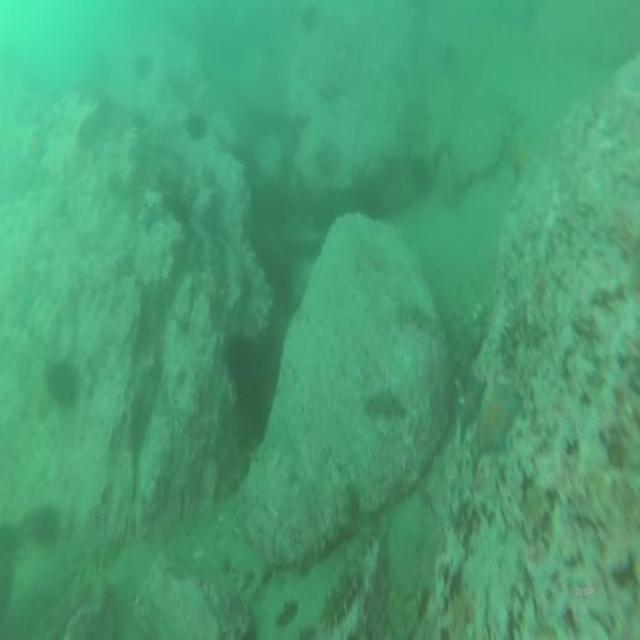echinus: (223, 333, 255, 392), (45, 365, 79, 405), (30, 510, 56, 542), (186, 110, 203, 140)
holothurian: (215, 540, 265, 590), (321, 572, 360, 623), (65, 539, 117, 572), (399, 306, 444, 339), (364, 389, 404, 422), (355, 518, 377, 552)
starfish: (477, 384, 519, 447), (458, 378, 482, 423)
